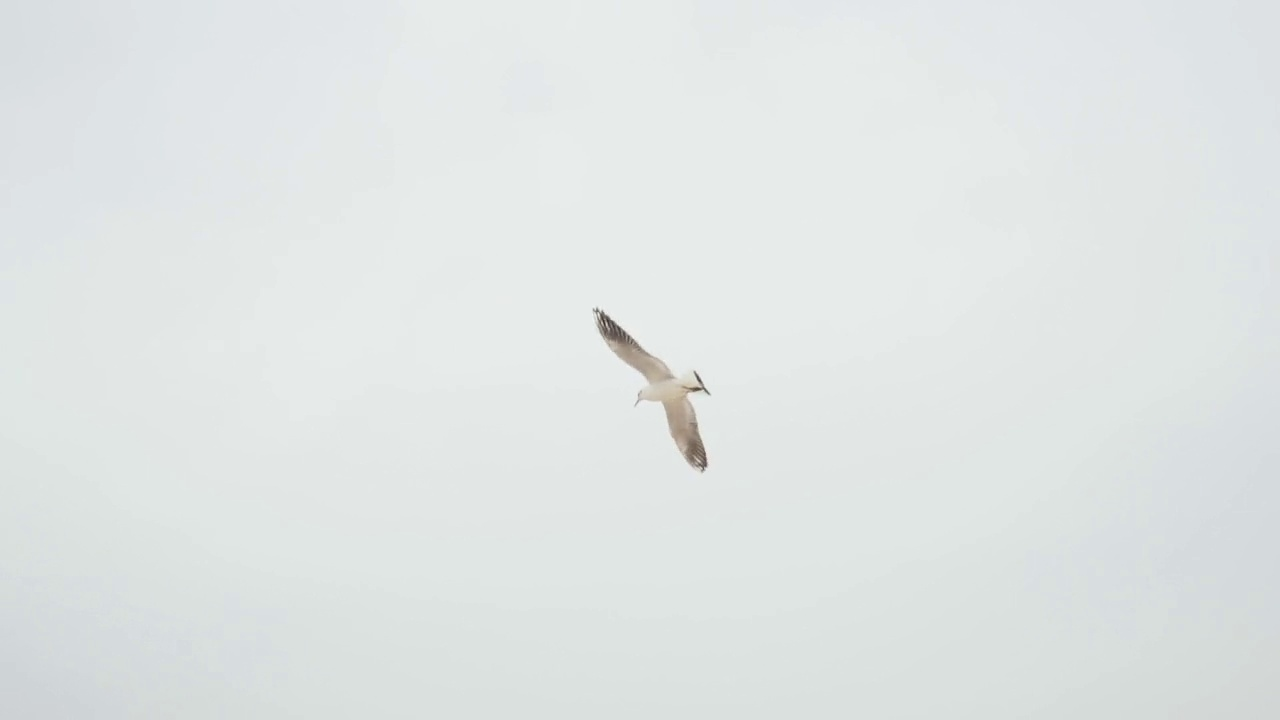bird: (596, 307, 712, 466)
